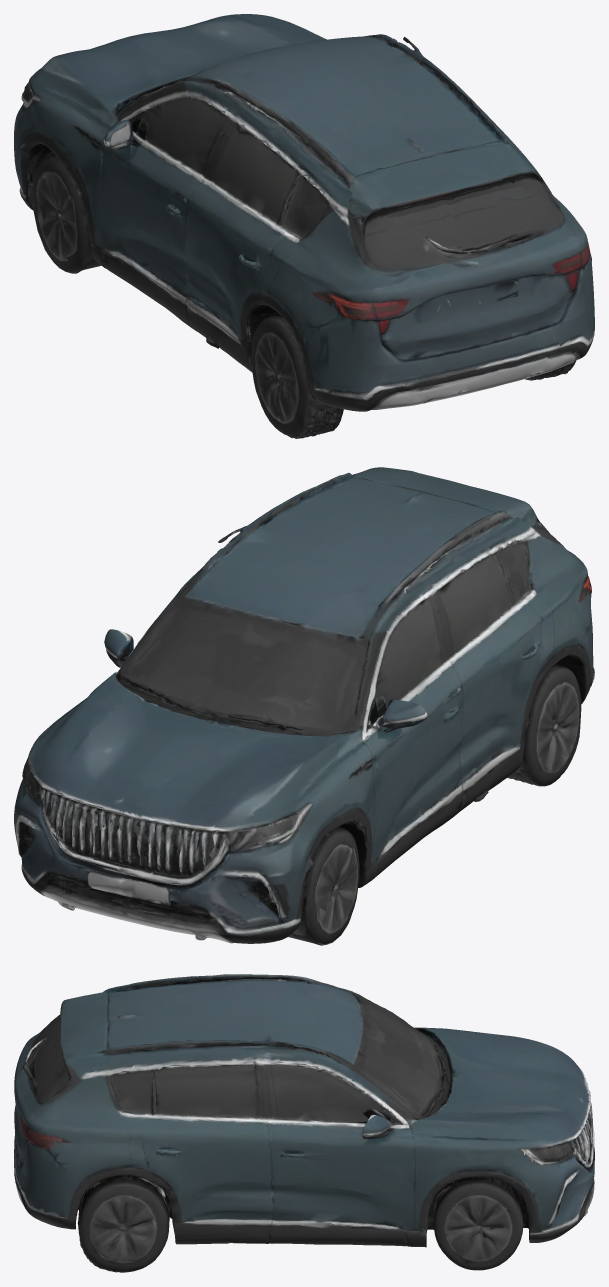
File: tugra_t10_lod.glb
3 views of the same model, one above another, from view 1: azimuth 30°, elevation 25°; view 2: azimuth 150°, elevation 25°; view 3: azimuth 270°, elevation 25° (orthographic). The views are drawn at different scales.
Parts seen in each view (by area): view 1: Body, Wheel_RL, Wheel_FL; view 2: Body, Wheel_RL, Wheel_FL; view 3: Body, Wheel_RR, Wheel_FR.
Boxes of the visible parts, box(x1,y1,x2,y2) form: Body: box(14, 14, 594, 411); Wheel_RL: box(246, 318, 343, 438); Wheel_FL: box(27, 156, 101, 273); Body: box(14, 467, 594, 943); Wheel_RL: box(507, 668, 581, 786); Wheel_FL: box(288, 829, 366, 945); Body: box(14, 974, 594, 1247); Wheel_RR: box(70, 1185, 177, 1272); Wheel_FR: box(426, 1184, 528, 1270).
Bounding box in the file's own units: 2.36 × 1.87 × 4.6.
1 material, 1 textured.
